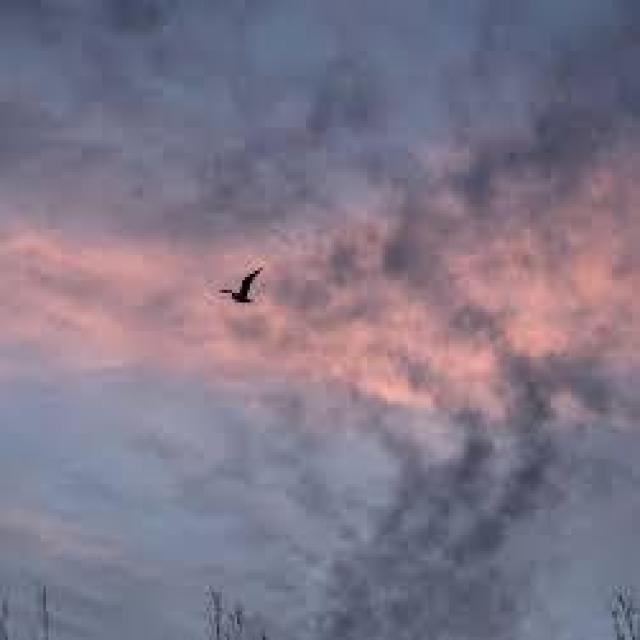bird: (220, 264, 259, 306)
